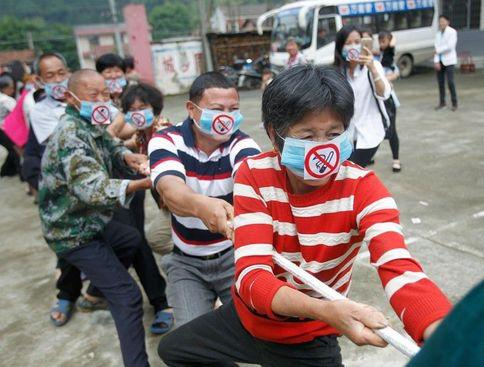OK: (128, 100, 157, 129), (342, 37, 365, 61)
WRONG: (278, 117, 350, 189), (195, 100, 239, 144), (75, 89, 111, 123), (42, 70, 71, 100), (102, 68, 128, 92)
